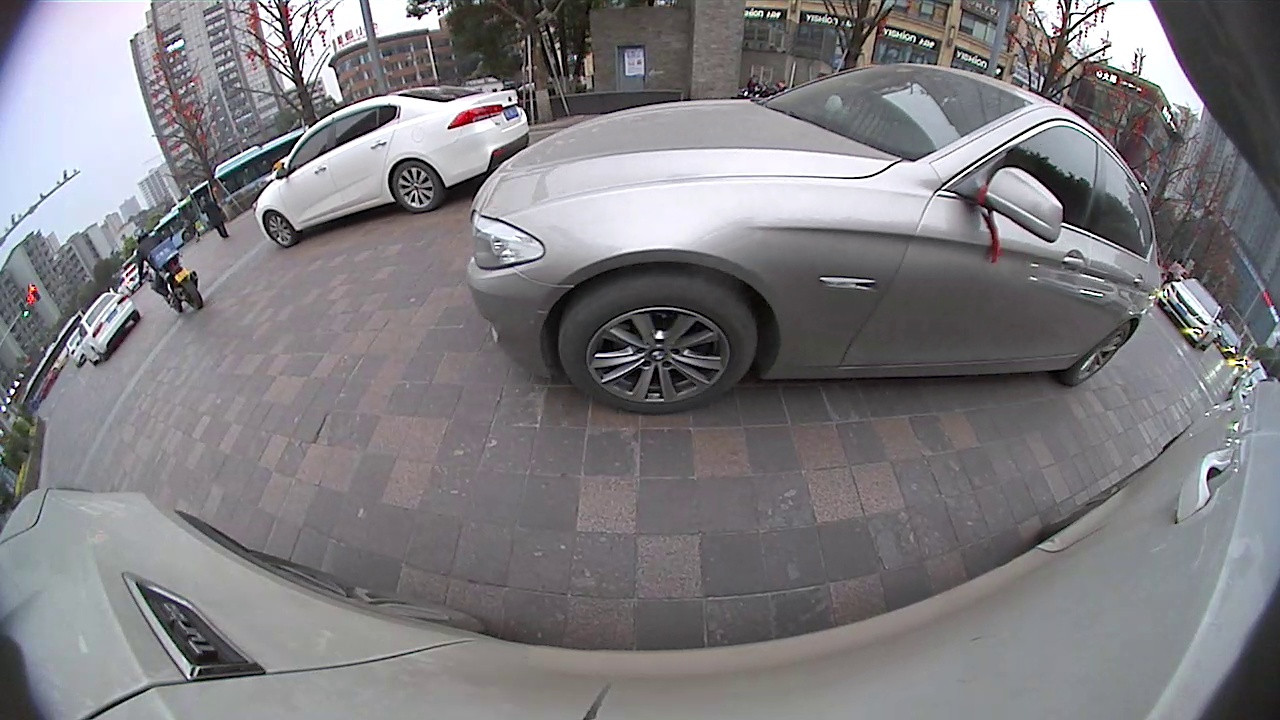car: (466, 61, 1163, 418), (254, 83, 531, 250), (1157, 276, 1224, 353), (77, 290, 142, 365)
front: (553, 265, 762, 417), (261, 209, 300, 250)
rear: (1066, 318, 1135, 390), (389, 157, 446, 214)
rider: (133, 233, 206, 316)
